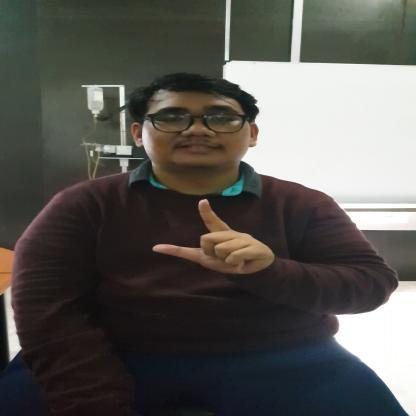L: (152, 197, 276, 278)
